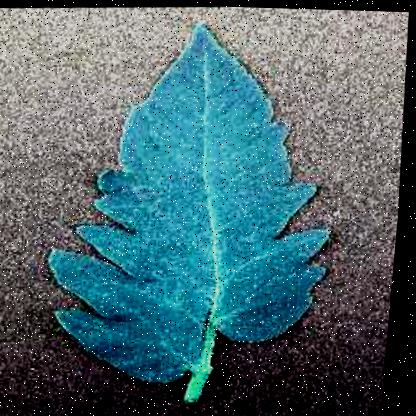Healthy: (28, 6, 357, 409)
